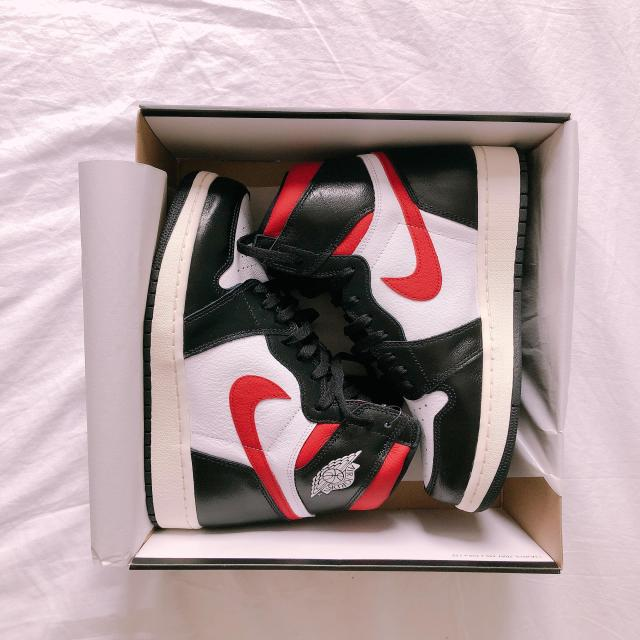shoe: (231, 136, 549, 520), (137, 166, 421, 544)
